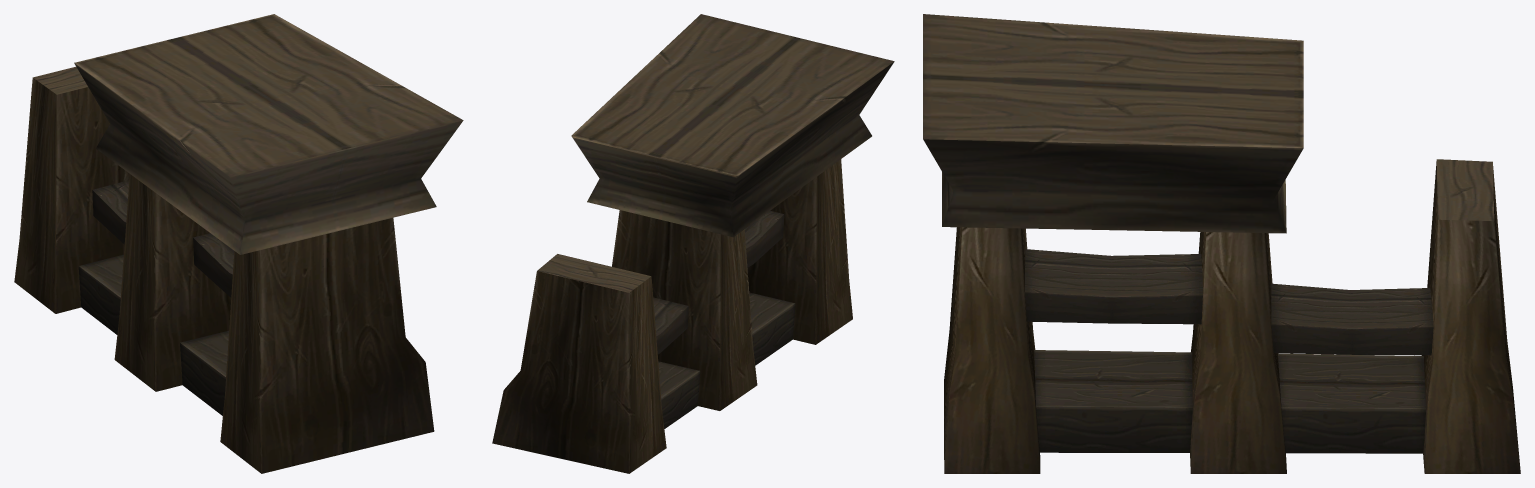
Rendered from 6hu_enchanting_shelf01.obj.
3 renders of one model, left to right at view 1: azimuth 30°, elevation 25°; view 2: azimuth 150°, elevation 25°; view 3: azimuth 270°, elevation 25°, orthographic. The views are drawn at different scales.
Visible parts, largest first — view 1: 6HU_ENCHANTING_SHELF010; view 2: 6HU_ENCHANTING_SHELF010; view 3: 6HU_ENCHANTING_SHELF010.
Part boxes in pixels (x1,y1,x2,y2): 6HU_ENCHANTING_SHELF010: (14, 14, 463, 473); 6HU_ENCHANTING_SHELF010: (492, 14, 894, 473); 6HU_ENCHANTING_SHELF010: (923, 14, 1520, 473).
Size of the model in its own units: 1.48 by 1.9 by 2.98.
Materials: 1 (1 with a texture image).
